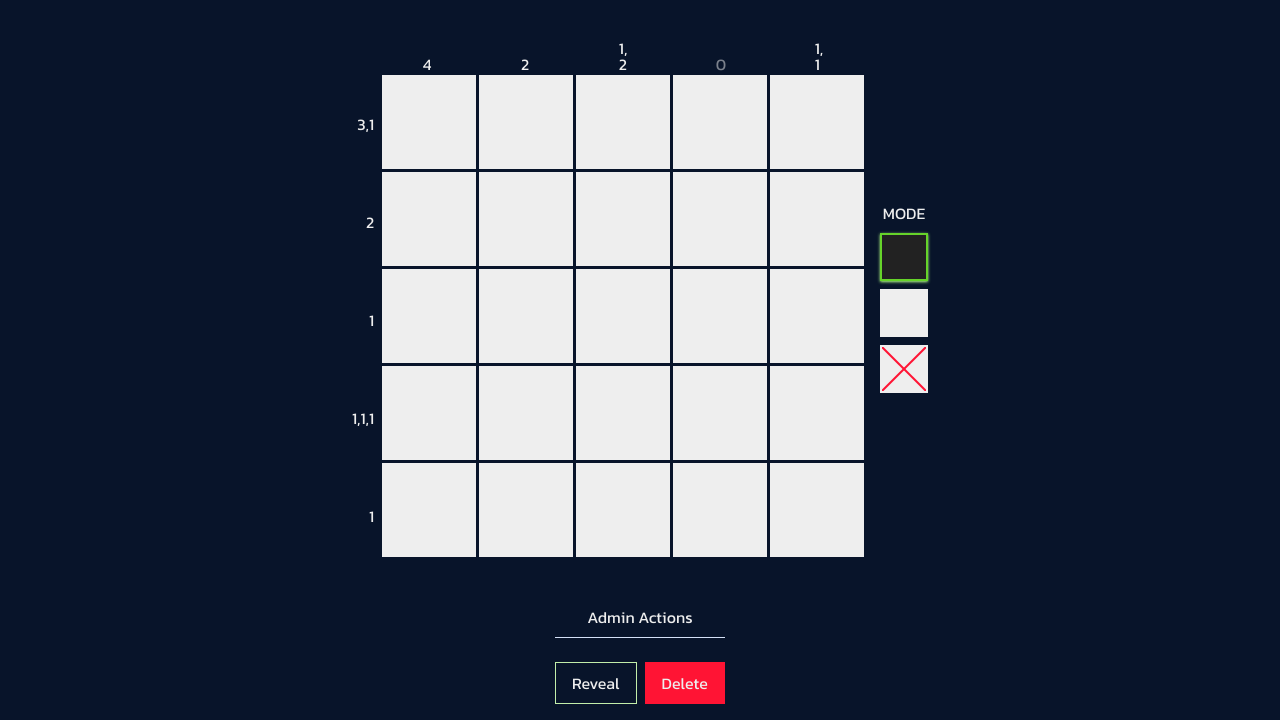
Test: Solve tests: › Admin actions tests: › With admin permissions tests: › Delete puzzle tests: › It should display errors if delete puzzle rejects
This screenshot has width=1280, height=720.
Click the button "Delete": (685, 683) [644,662,725,704]
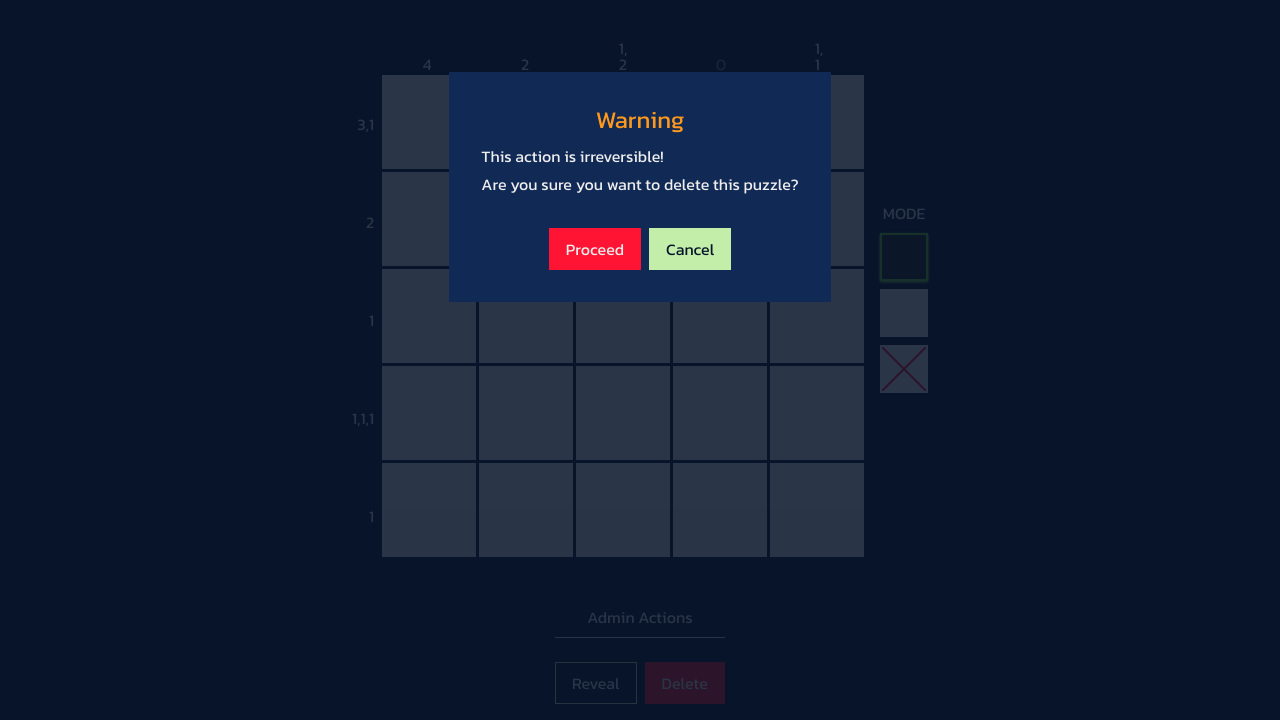
Click the button "Proceed": (595, 249) [549,228,641,270]
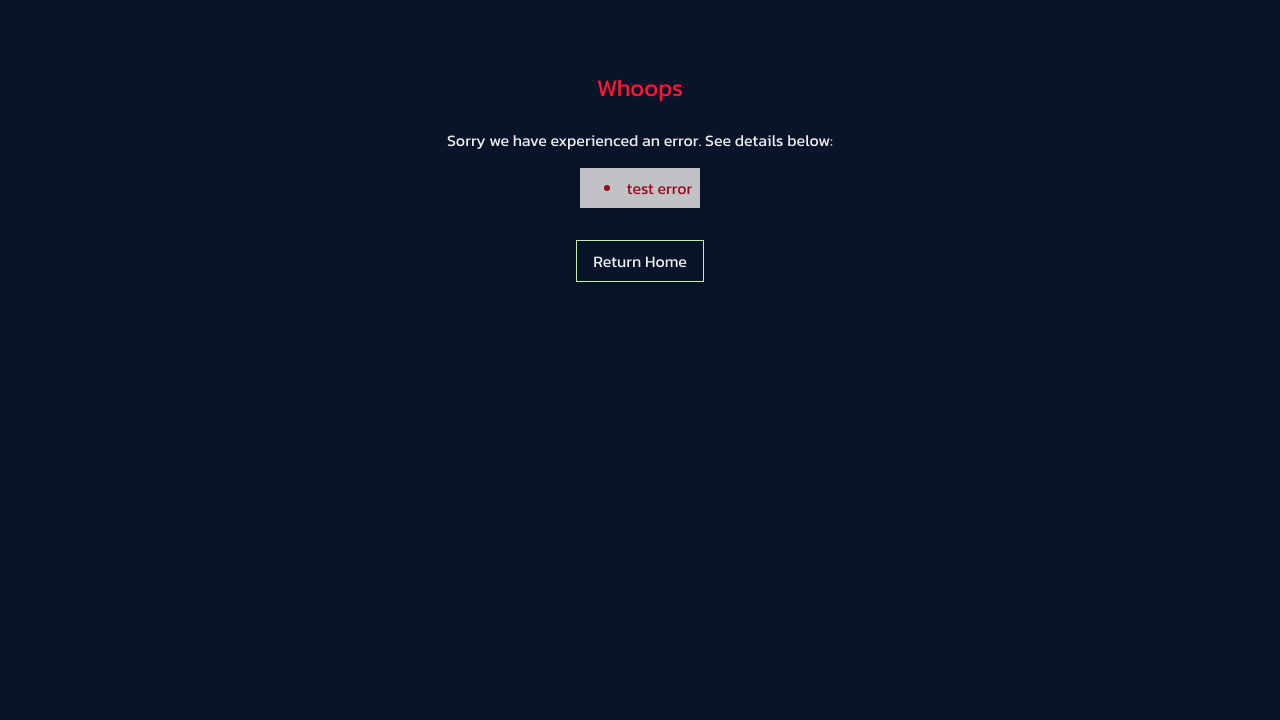
Now the list item "test error" is shown, box [627,176,692,200]
